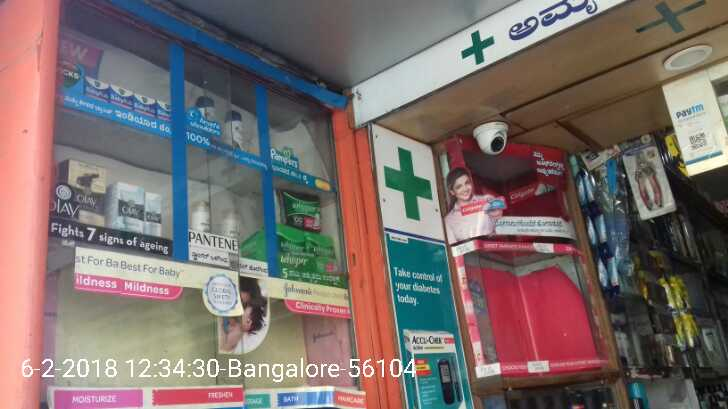beauty: (59, 155, 106, 227), (106, 176, 145, 231), (221, 103, 242, 153), (146, 191, 164, 236)
pharmacy: (271, 187, 323, 230), (305, 233, 340, 277), (264, 225, 300, 265), (105, 80, 134, 115), (82, 73, 110, 105), (152, 101, 177, 127), (133, 95, 157, 117)
